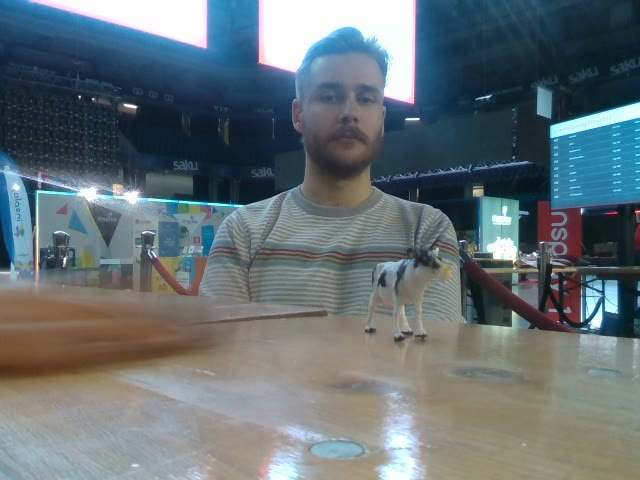toy: (364, 246, 454, 343)
